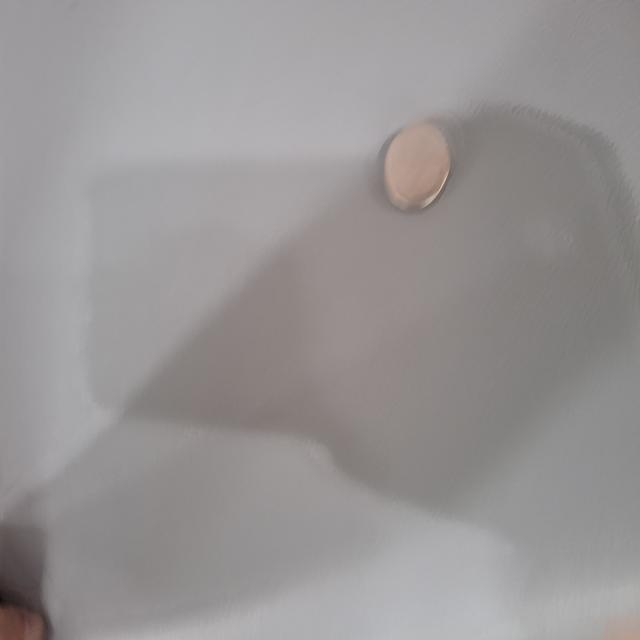COIN: (321, 510, 391, 602)
